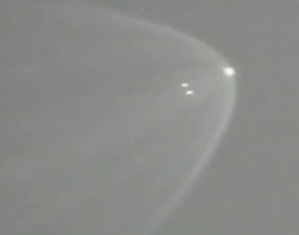Target: (182, 69, 233, 94)
